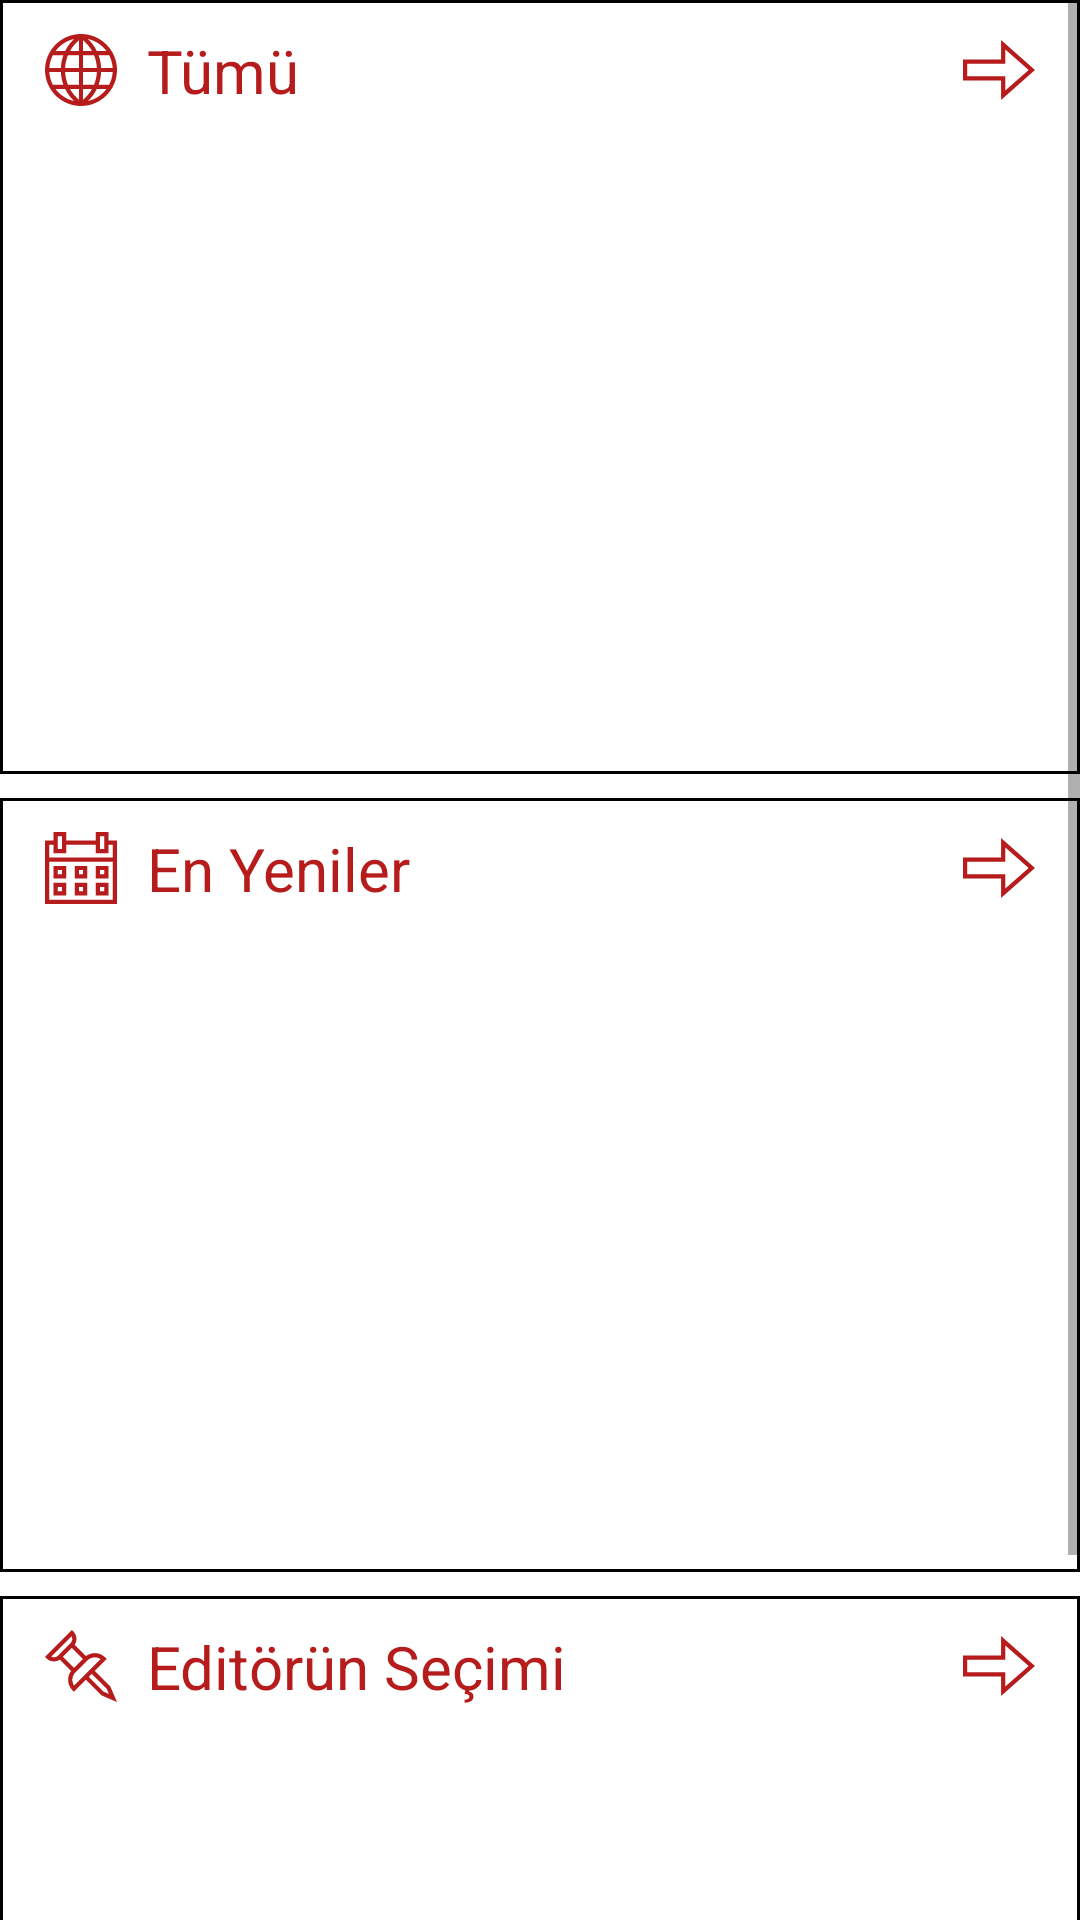

Where to tap for icons on this 1080 × 1920 app screen, as [x,y]:
forward: [999,70], [999,868], [999,1666]
